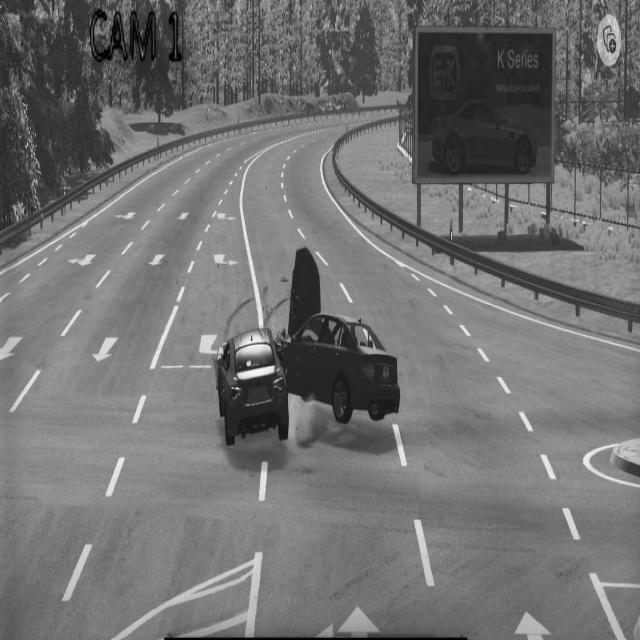accident: (213, 242, 401, 457)
vehicle: (428, 92, 540, 178)
